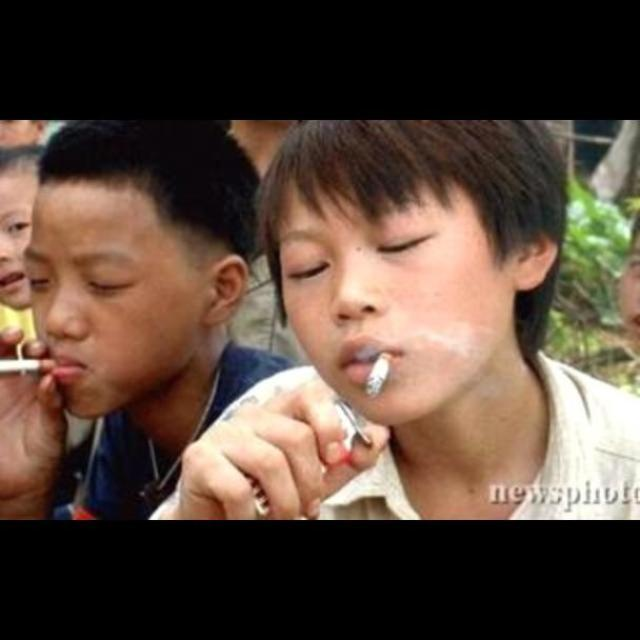rokok: (357, 346, 398, 399), (0, 351, 60, 375)
